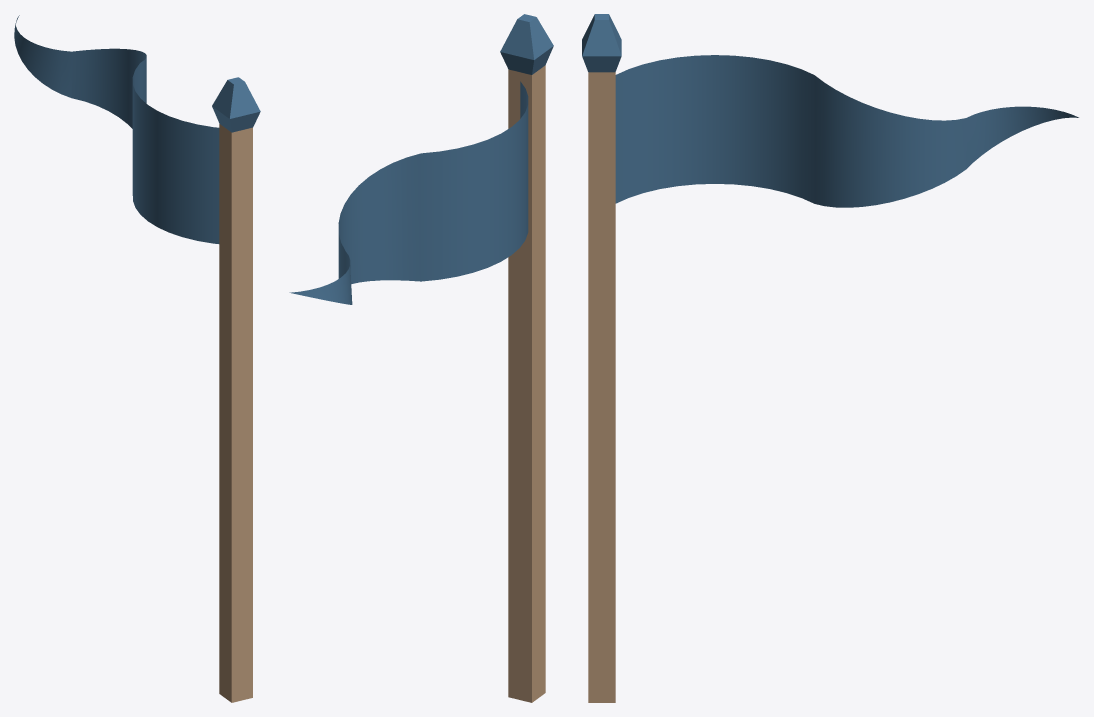
Rendered from flagBlue.fbx.
The picture shows the model from 3 angles, left to right: view 1: azimuth 30°, elevation 25°; view 2: azimuth 150°, elevation 25°; view 3: azimuth 270°, elevation 25°; orthographic projection. The views are drawn at different scales.
Visible parts, largest first — view 1: flagBlue, flag; view 2: flag, flagBlue; view 3: flag, flagBlue.
Part boxes in pixels (<box>): flagBlue: <box>212,77,260,702</box>; flag: <box>14,15,219,243</box>; flag: <box>289,81,528,304</box>; flagBlue: <box>500,14,553,702</box>; flag: <box>615,55,1078,207</box>; flagBlue: <box>582,14,621,702</box>.
Size of the model in its own units: 0.8991 by 7.92 by 5.25.
